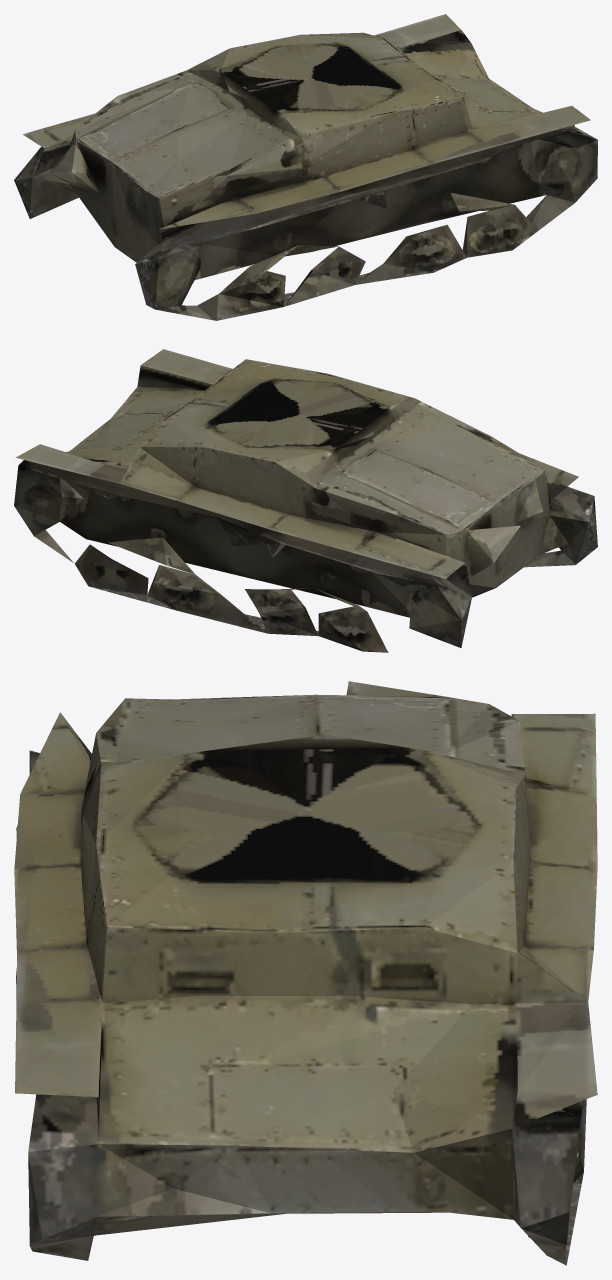
File: hull.obj
3 views of the same model, one above another, from view 1: azimuth 30°, elevation 25°; view 2: azimuth 150°, elevation 25°; view 3: azimuth 270°, elevation 25° (orthographic). The views are drawn at different scales.
Bounding box in the file's own units: 0.9874 × 0.333 × 0.5526.
Materials: 1 (1 with a texture image).
